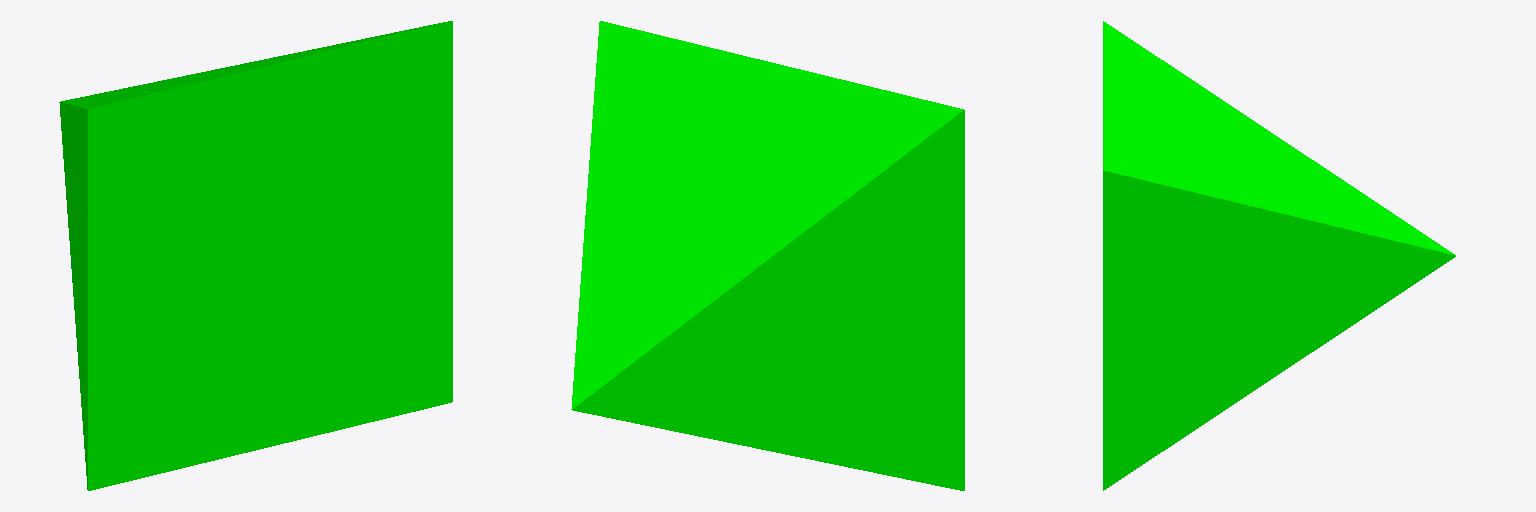
robot.urdf — pyramid:
<?xml version="1.0" ?>
<robot name="pyramid">
  <link name="baseLink">
    <contact>
      <lateral_friction value="1.0"/>
      <rolling_friction value="0.0"/>
      <contact_cfm value="0.0"/>
      <contact_erp value="1.0"/>
    </contact>
    <inertial>
      <origin rpy="0 0 0" xyz="0 0 0"/>
       <mass value="1.0"/>
       <inertia ixx="1" ixy="0" ixz="0" iyy="1" iyz="0" izz="1"/>
    </inertial>
    <visual>
      <origin rpy="0 0 0" xyz="0 0 0"/>
      <geometry>
				<mesh filename="pyramid.obj" scale="0.5 0.5 0.5"/>
      </geometry>
       <material name="green">
        <color rgba="0 1 0 1"/>
      </material>
    </visual>
    <collision>
      <origin rpy="0 0 0" xyz="0 0 0"/>
      <geometry>
	 	<mesh filename="pyramid.obj" scale="0.5 0.5 0.5"/>
      </geometry>
    </collision>
  </link>
</robot>

--- Render facts (derived) ---
3 views of the same robot in one strip: view 1: azimuth 30°, elevation 25°; view 2: azimuth 150°, elevation 25°; view 3: azimuth 270°, elevation 25° (orthographic).
Robot: pyramid — 1 links, 0 joints (none); root link baseLink; default pose: every joint at zero.
Visible links, largest first — view 1: baseLink; view 2: baseLink; view 3: baseLink.
Boxes of the visible links, box(x1,y1,x2,y2) form: baseLink: box(59, 21, 452, 490); baseLink: box(571, 21, 964, 490); baseLink: box(1103, 21, 1455, 490).
Bounding box of the posed robot: 1 × 1 × 1 m (x, y, z).
Meshes: 1 distinct files referenced, 1 mesh visuals loaded (1 OBJ).